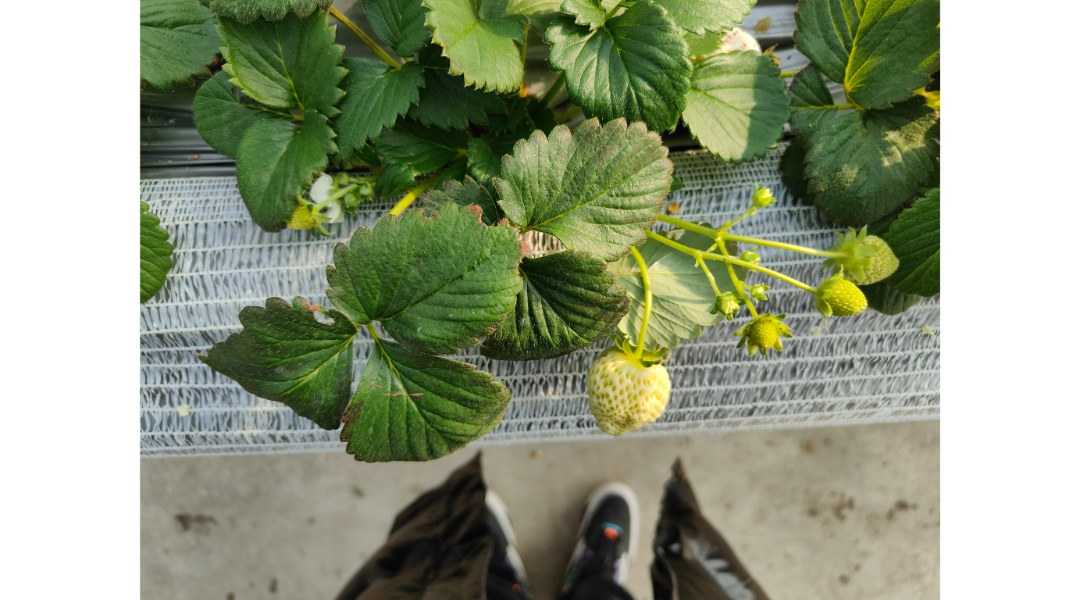berry: (576, 342, 679, 446), (826, 227, 908, 290), (280, 188, 344, 247), (808, 271, 878, 317), (736, 314, 800, 364), (699, 279, 741, 330), (753, 179, 781, 209), (739, 245, 763, 268), (749, 278, 767, 304)
strain: (625, 247, 662, 367), (739, 252, 818, 294), (734, 231, 826, 257), (643, 209, 715, 237), (644, 231, 696, 257)
